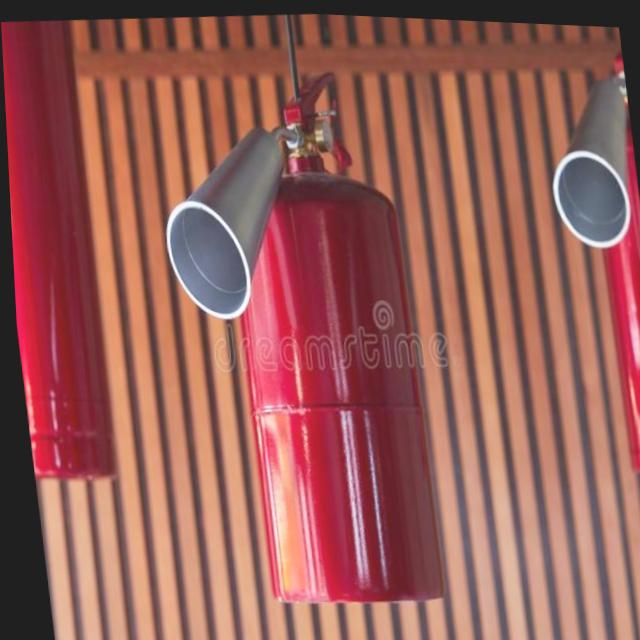FireExtinguisher: (138, 51, 450, 618), (1, 17, 121, 497), (527, 45, 640, 480)
